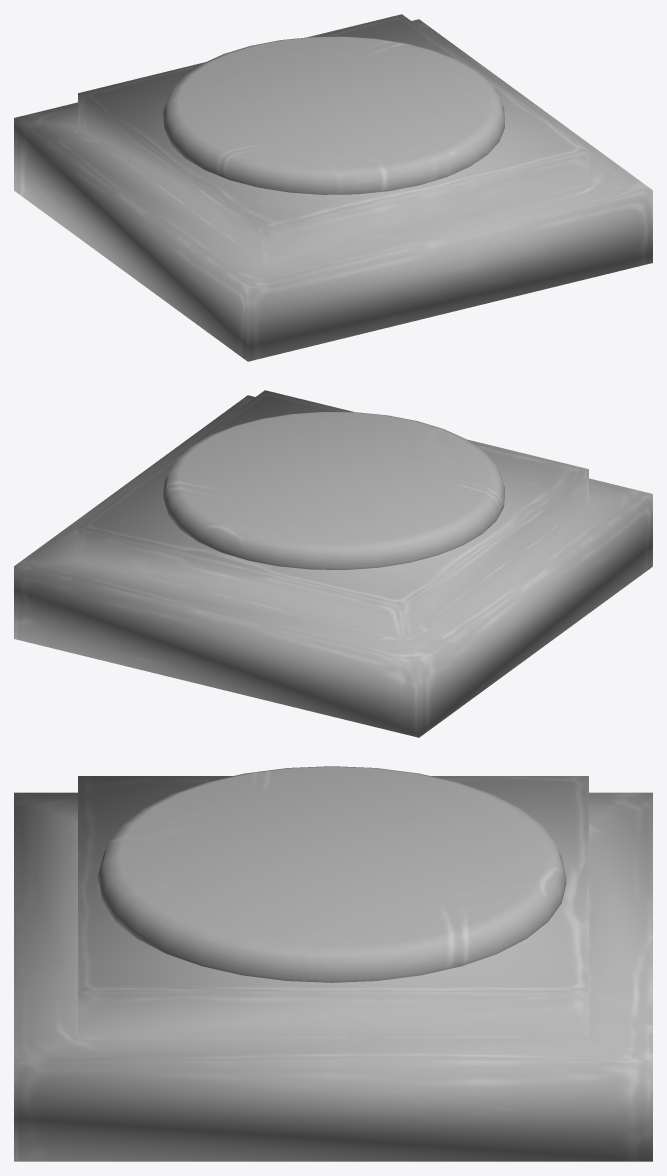
File: ColonBase.fbx
3 views of the same model, one above another, from view 1: azimuth 30°, elevation 25°; view 2: azimuth 150°, elevation 25°; view 3: azimuth 270°, elevation 25° (orthographic). The views are drawn at different scales.
Parts seen in each view (by area): view 1: Base; view 2: Base; view 3: Base.
Boxes of the visible parts, x1,y1,x2,y2 form: Base: [14, 14, 652, 361]; Base: [14, 390, 652, 737]; Base: [14, 766, 652, 1161].
Bounding box in the file's own units: 306 × 89.86 × 306.
